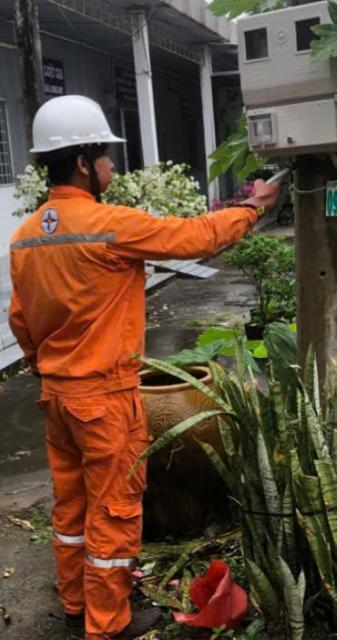gloves: (226, 170, 312, 232)
helmet: (19, 83, 138, 160)
shoes: (105, 599, 183, 640)
